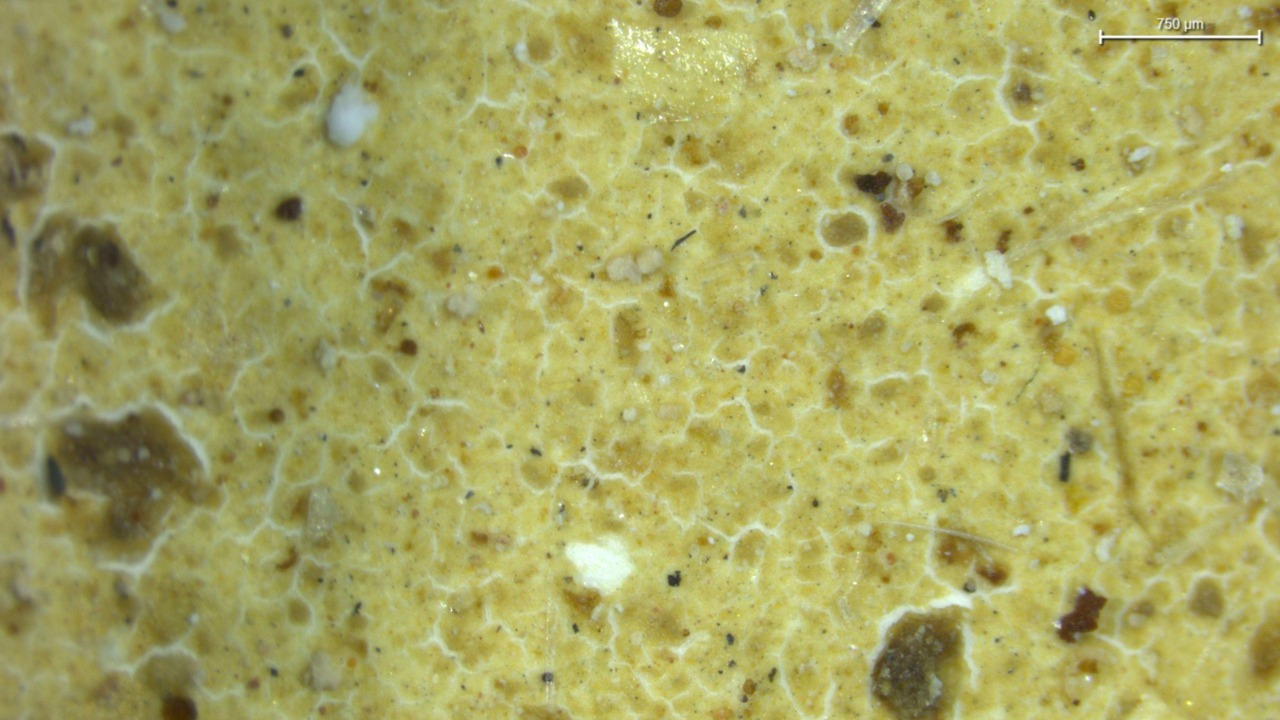microplastic_fragment: (327, 84, 378, 147)
